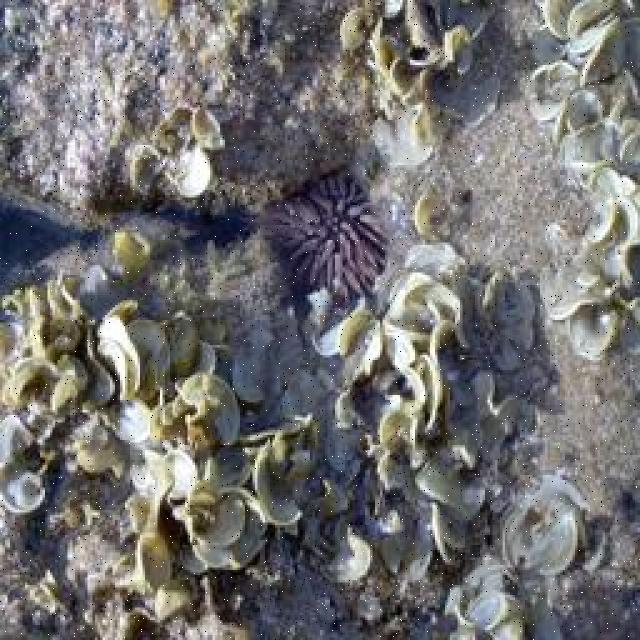reefs: (0, 194, 585, 637), (526, 0, 638, 360), (338, 1, 495, 166), (245, 173, 390, 297), (126, 101, 225, 199)
